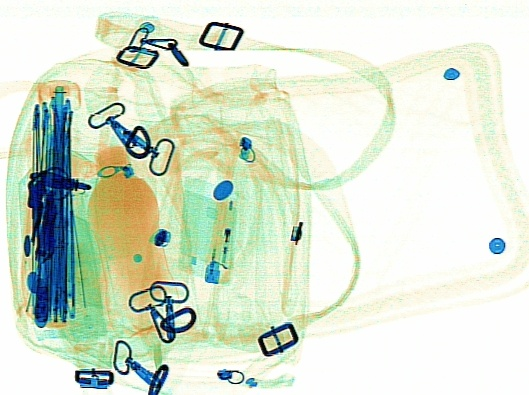lighter: (201, 199, 238, 284)
